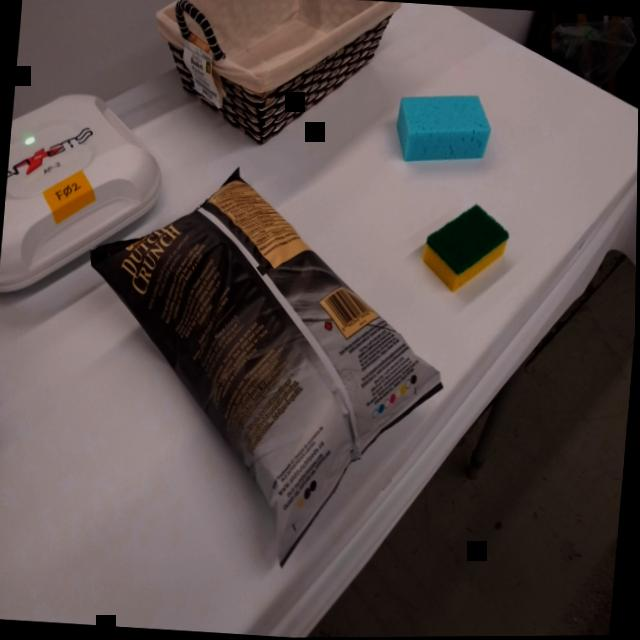potato_chips: (60, 148, 465, 583)
scrubby: (418, 196, 515, 300)
sponge_opl: (391, 86, 496, 172)
